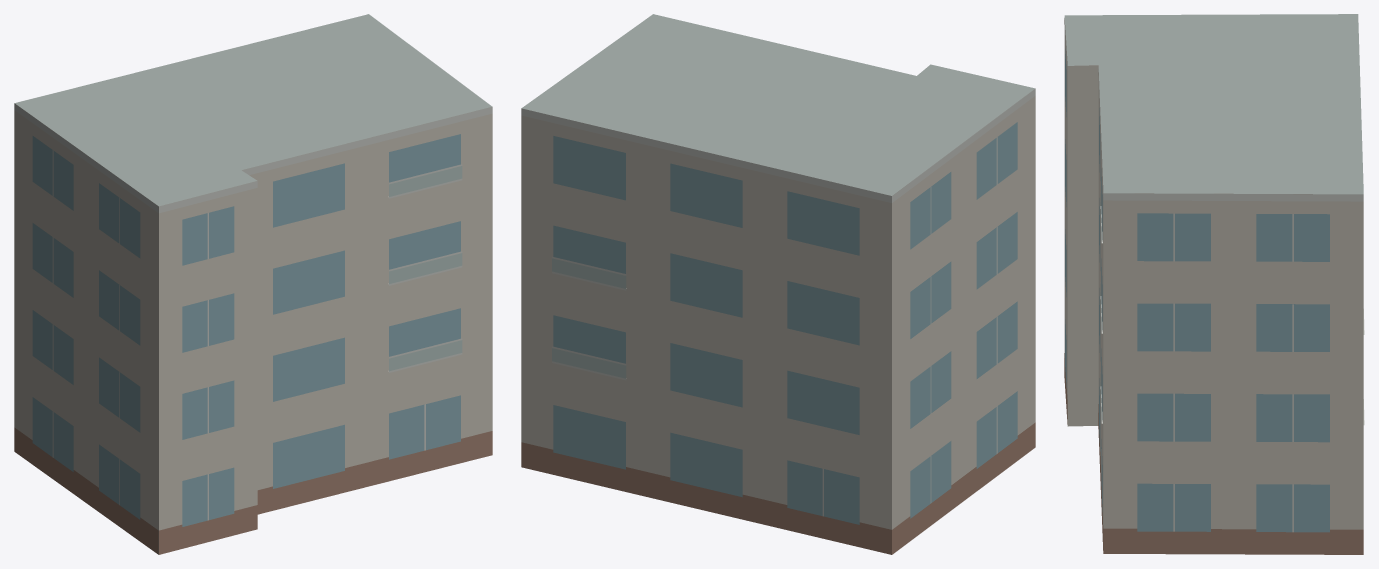
Rendered from survey-upis-32839703.glb.
The picture shows the model from 3 angles, left to right: view 1: azimuth 30°, elevation 25°; view 2: azimuth 150°, elevation 25°; view 3: azimuth 270°, elevation 25°; orthographic projection. The views are drawn at different scales.
Visible parts, largest first — view 1: survey-upis-32839703.tmp; view 2: survey-upis-32839703.tmp; view 3: survey-upis-32839703.tmp.
Part boxes in pixels (x1,y1,x2,y2): survey-upis-32839703.tmp: (14,14,492,554); survey-upis-32839703.tmp: (521,14,1035,554); survey-upis-32839703.tmp: (1064,14,1364,554).
Size of the model in its own units: 13.1 by 12.2 by 9.21.
